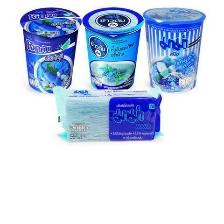paper_cup: (140, 3, 209, 96), (15, 3, 82, 96), (81, 4, 146, 94)
